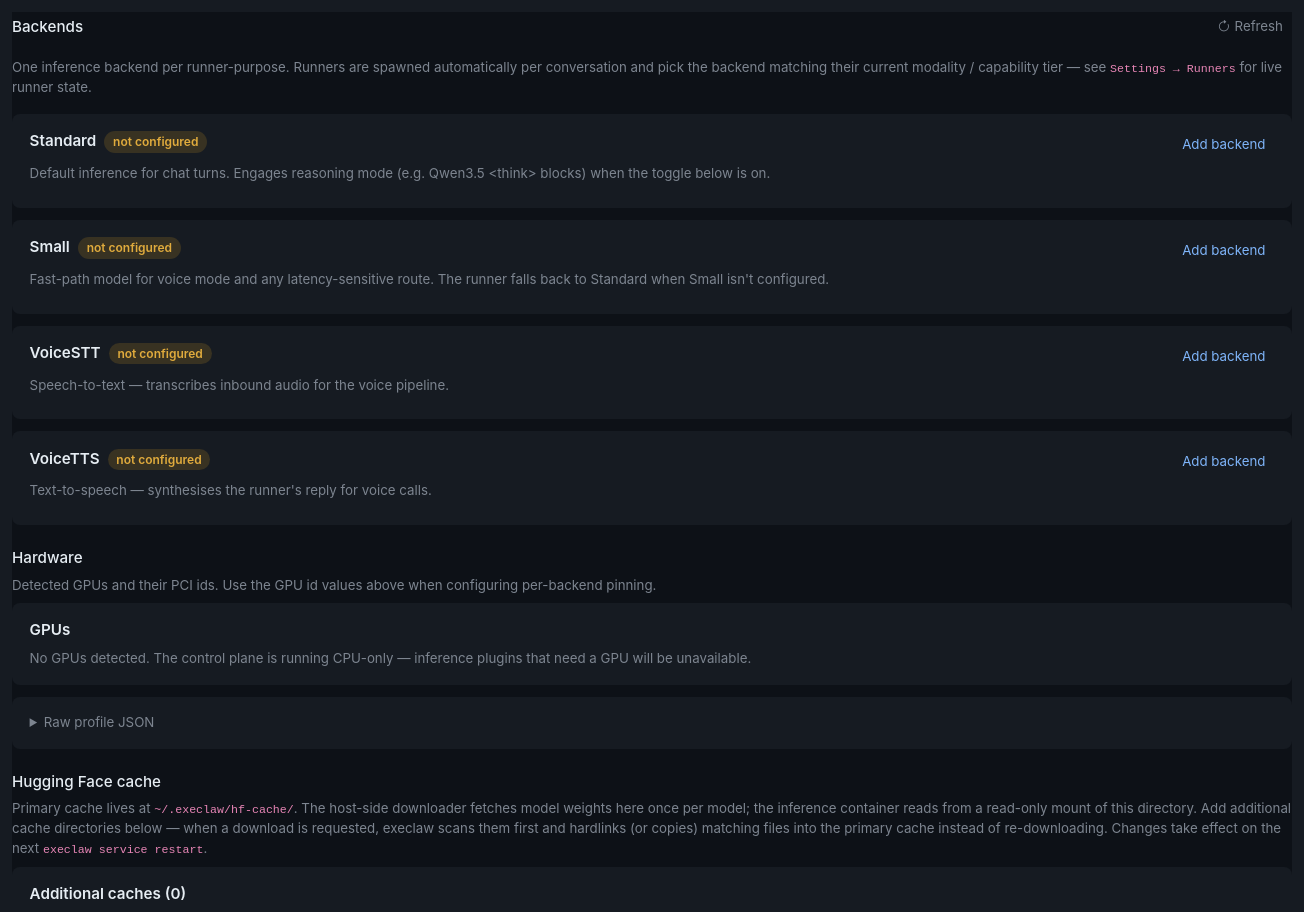
Scenario: BackendsPage › opens the wizard inline when adding a fresh backend
Check: the number of elements with test id "backend-row" is 4, box x1=12 y1=114 x2=1292 y2=208; x1=12 y1=220 x2=1292 y2=314; x1=12 y1=326 x2=1292 y2=420; x1=12 y1=431 x2=1292 y2=525
Click the 1st button with test id "backend-edit": (1224, 145) x1=1173 y1=130 x2=1274 y2=160
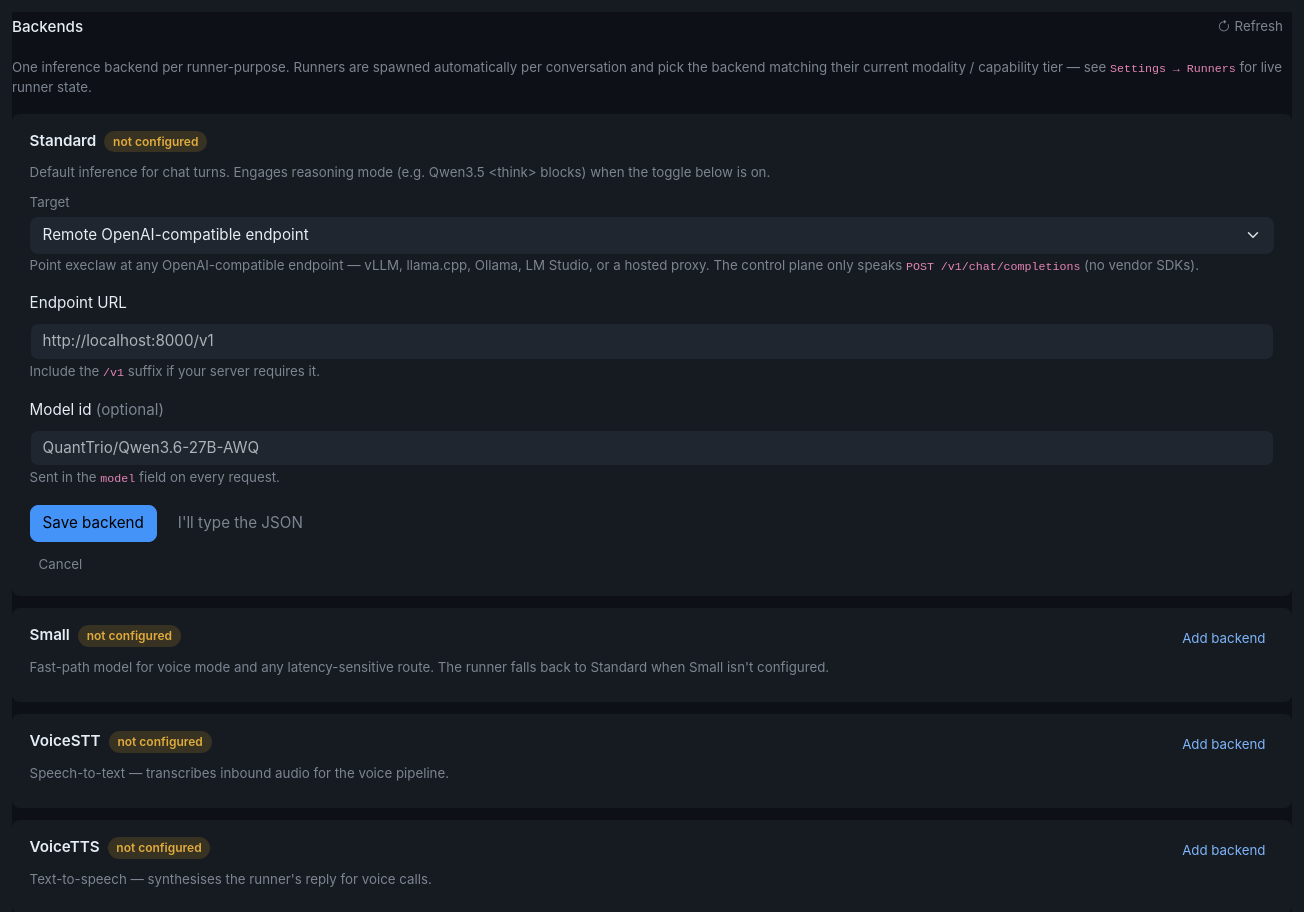
Check: the element with test id "backends-wizard-Standard-form" is shown, box x1=30 y1=191 x2=1274 y2=542
